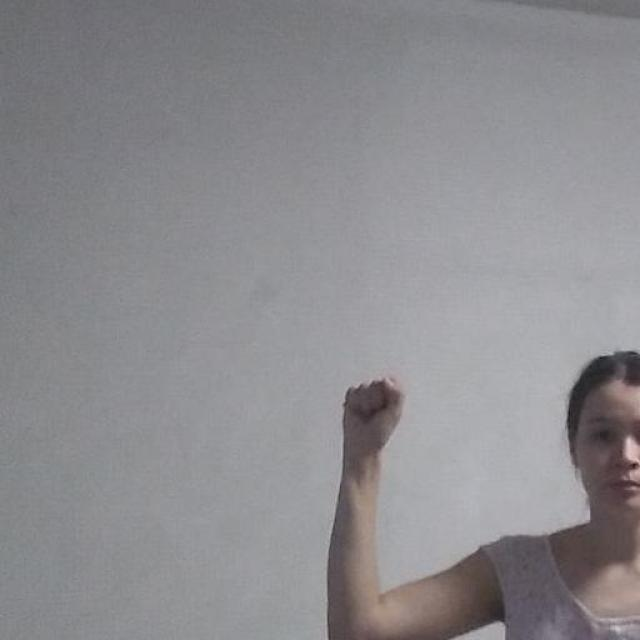hand: (340, 372, 405, 462)
